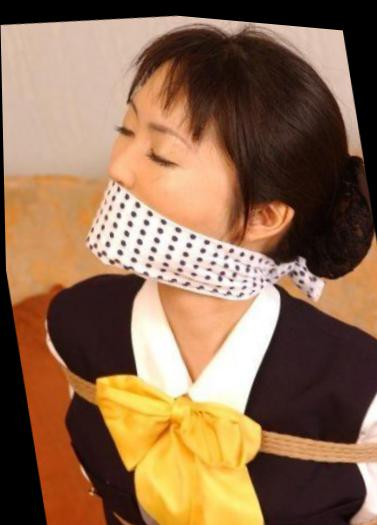WRONG: (79, 89, 259, 277)
